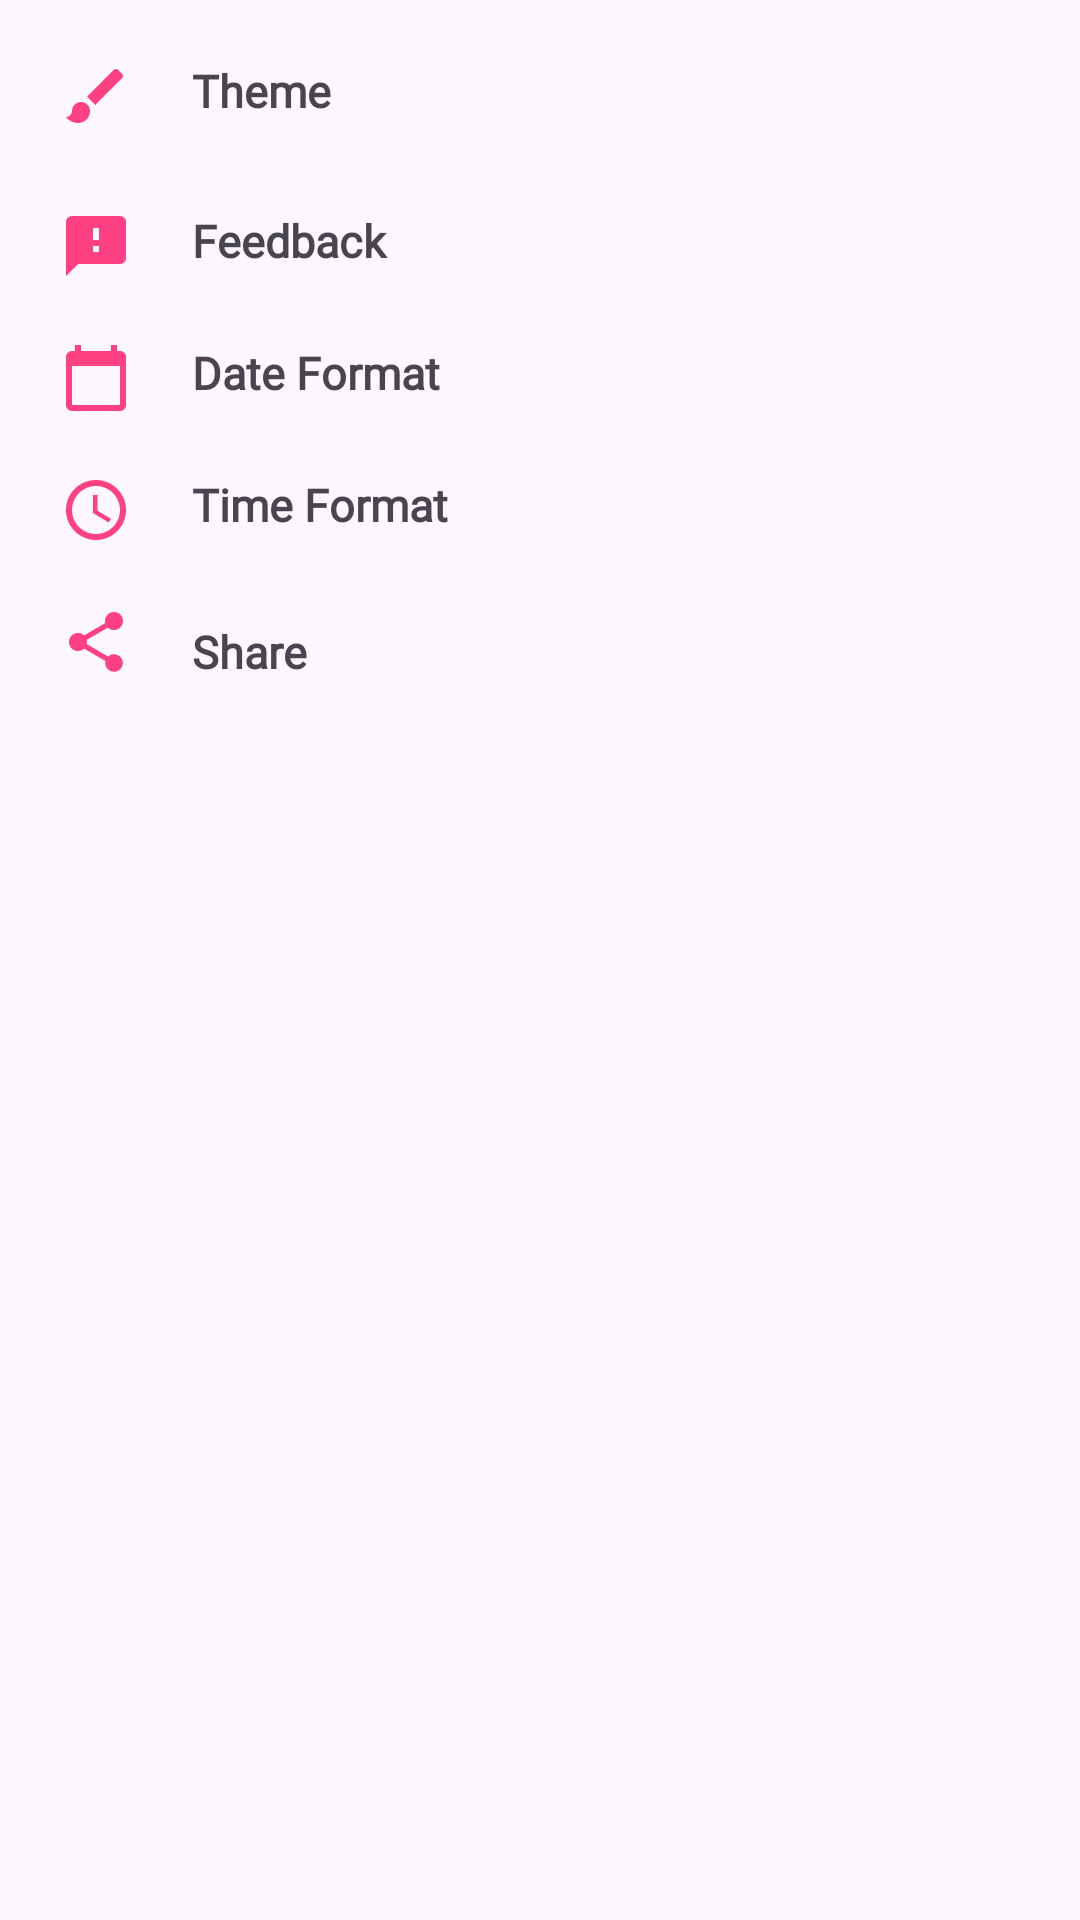

Icons on this 1080px×1920px Android screen, each with the point to tap as (x,y):
access time: (96,510)
brush: (94,96)
calendar today: (96,378)
